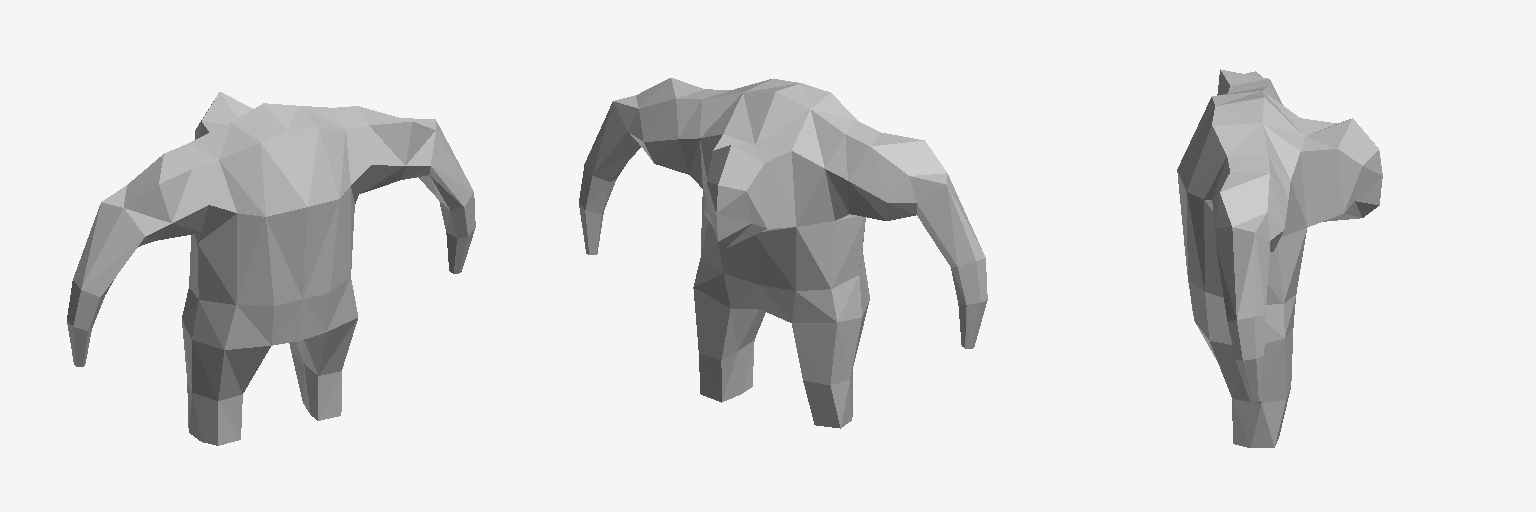
Rendered from monster.obj.
3 renders of one model, left to right at view 1: azimuth 30°, elevation 25°; view 2: azimuth 150°, elevation 25°; view 3: azimuth 270°, elevation 25°, orthographic.
Visible parts, largest first — view 1: Blood_Monster.002_Cube.004; view 2: Blood_Monster.002_Cube.004; view 3: Blood_Monster.002_Cube.004.
Boxes of the visible parts, <box> form: Blood_Monster.002_Cube.004: <box>67,92,475,445</box>; Blood_Monster.002_Cube.004: <box>579,78,987,428</box>; Blood_Monster.002_Cube.004: <box>1177,69,1382,447</box>.
Size of the model in its own units: 4.83 by 3.64 by 2.14.